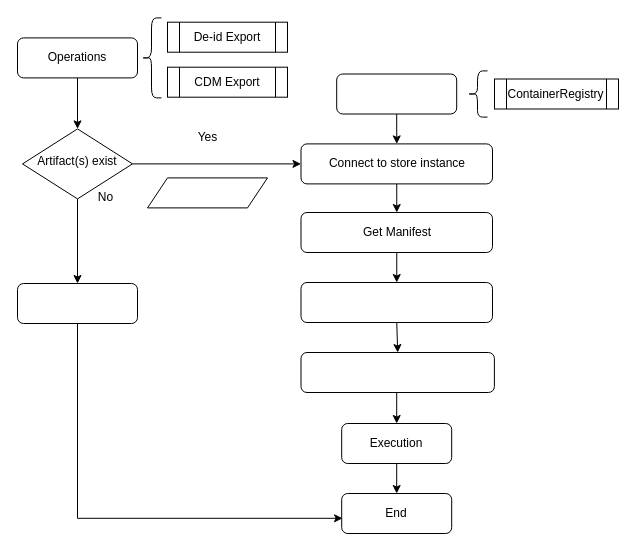
This 636x551 diagram has some shape labels left out. The centre of each missing label's shape, as x and y in pixels:
ACR Artifact Store: point (396, 93)
Default behavior: point (77, 303)
Fetch Artifacts: point (207, 192)
Get Layers: point (397, 372)
Validate image size: point (396, 302)
